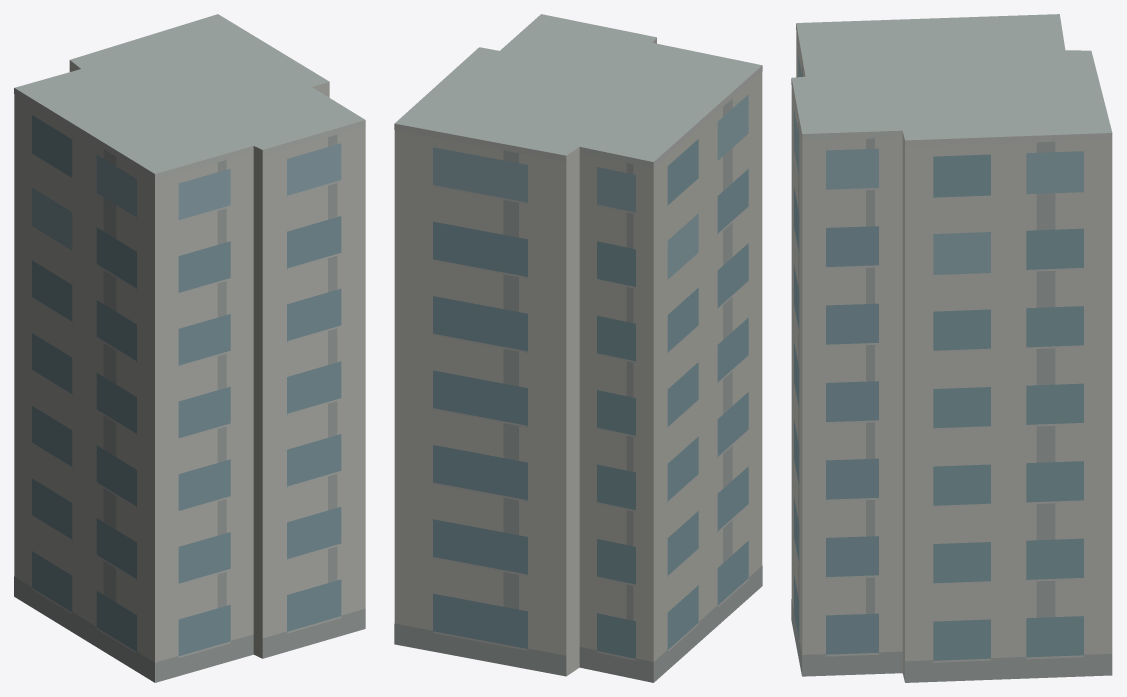
The model's file is survey-upis-32881802.glb.
3 renders of one model, left to right at view 1: azimuth 30°, elevation 25°; view 2: azimuth 150°, elevation 25°; view 3: azimuth 270°, elevation 25°, orthographic. The views are drawn at different scales.
Visible parts, largest first — view 1: survey-upis-32881802.tmp; view 2: survey-upis-32881802.tmp; view 3: survey-upis-32881802.tmp.
Part boxes in pixels (bbox=[...]): survey-upis-32881802.tmp: bbox=[14, 14, 365, 682]; survey-upis-32881802.tmp: bbox=[394, 14, 762, 682]; survey-upis-32881802.tmp: bbox=[791, 14, 1112, 682].
Bounding box in the file's own units: 9.8 × 19.6 × 10.52.
